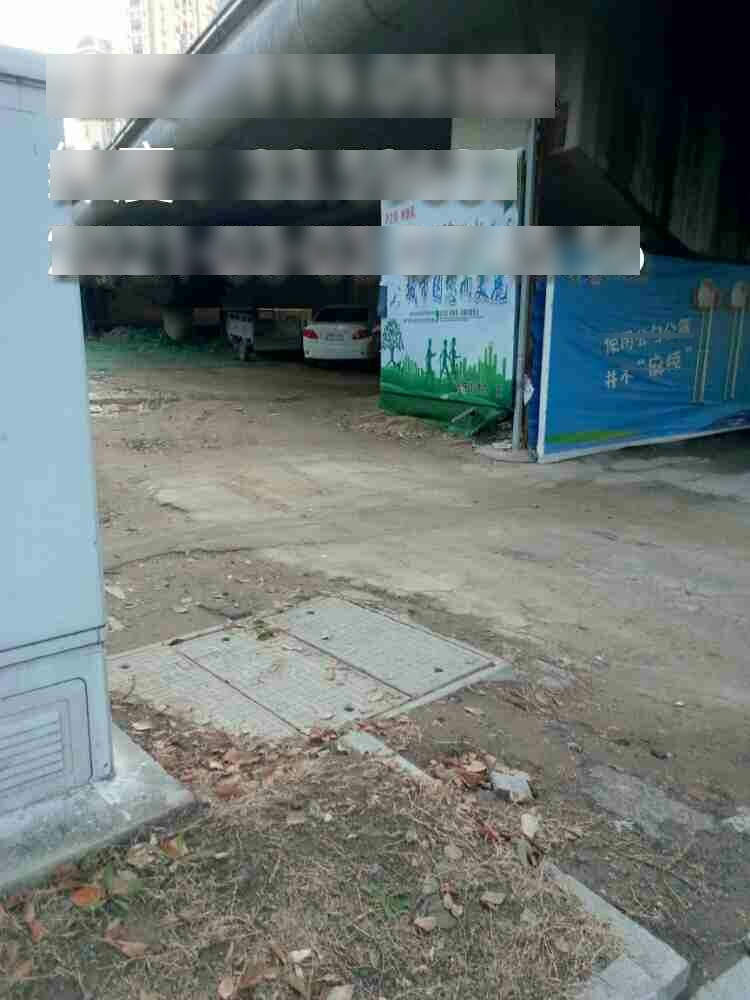good: (104, 593, 511, 746)
